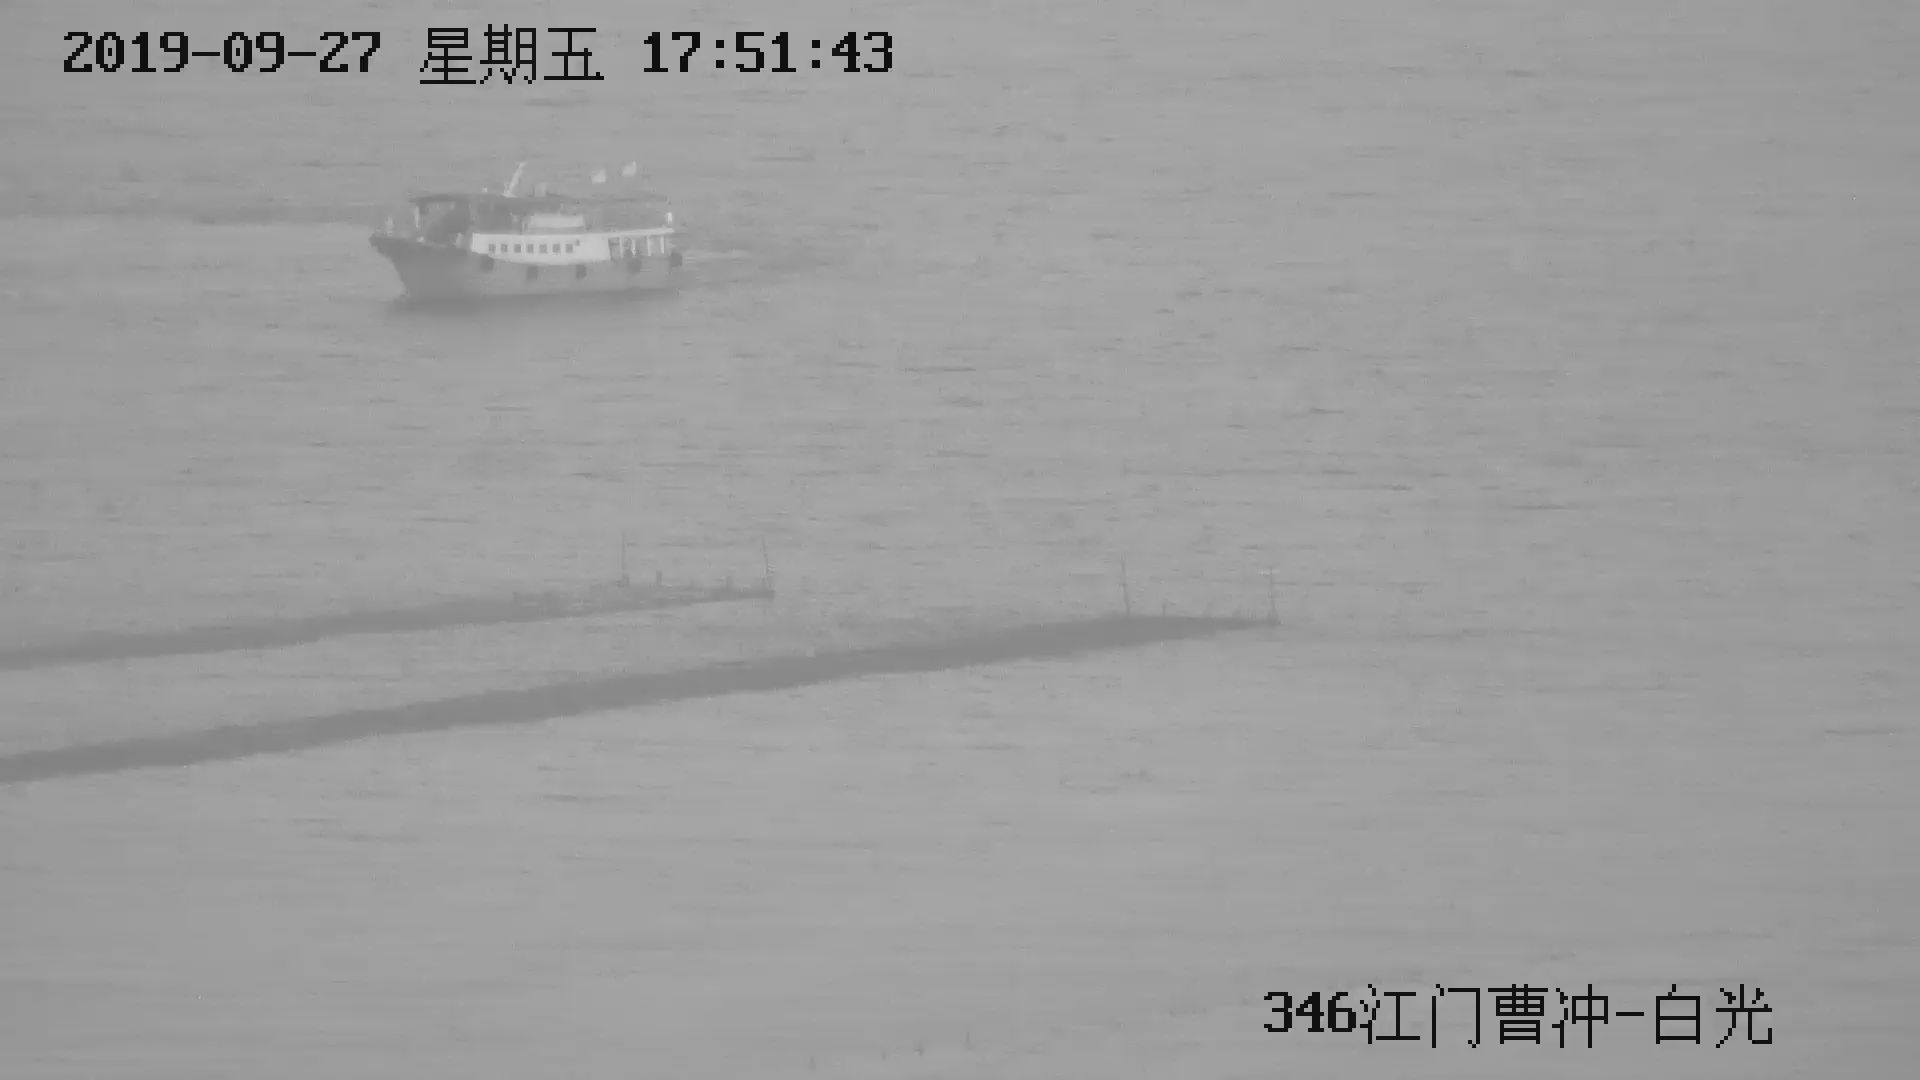ship: (365, 148, 699, 326)
